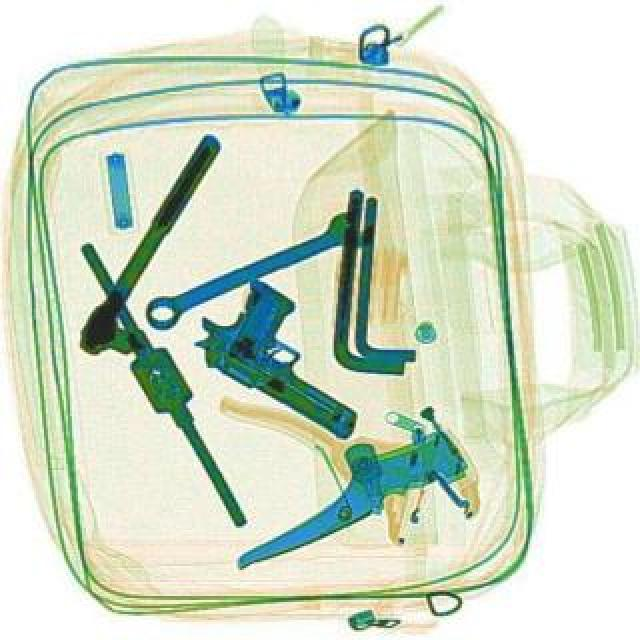gun: (178, 266, 398, 442)
scissors: (136, 204, 372, 336)
